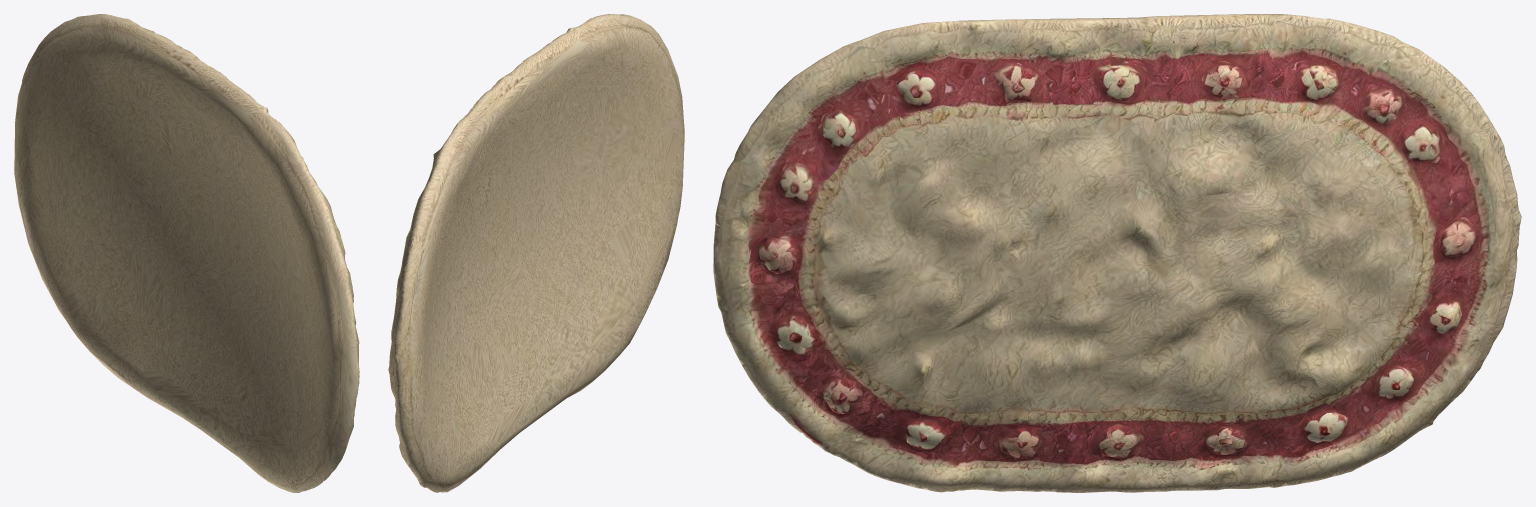
File: room-oval-rug.glb
The picture shows the model from 3 angles, left to right: view 1: azimuth 30°, elevation 25°; view 2: azimuth 150°, elevation 25°; view 3: azimuth 270°, elevation 25°; orthographic projection. The views are drawn at different scales.
Visible parts, largest first — view 1: tripo_node_6001ec87-9e19-4353-aa3a-916df2830cac; view 2: tripo_node_6001ec87-9e19-4353-aa3a-916df2830cac; view 3: tripo_node_6001ec87-9e19-4353-aa3a-916df2830cac.
Part boxes in pixels (x1=…): tripo_node_6001ec87-9e19-4353-aa3a-916df2830cac: x1=14, y1=14, x2=359, y2=492; tripo_node_6001ec87-9e19-4353-aa3a-916df2830cac: x1=388, y1=14, x2=684, y2=492; tripo_node_6001ec87-9e19-4353-aa3a-916df2830cac: x1=713, y1=14, x2=1521, y2=492.
Bounding box in the file's own units: 0.1311 × 0.6293 × 0.97.
1 material, 1 textured.
